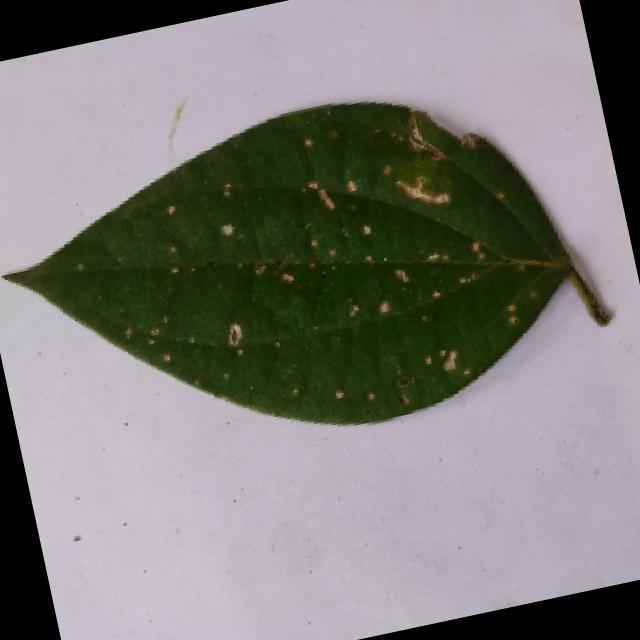pollu-disease: (0, 33, 634, 490)
